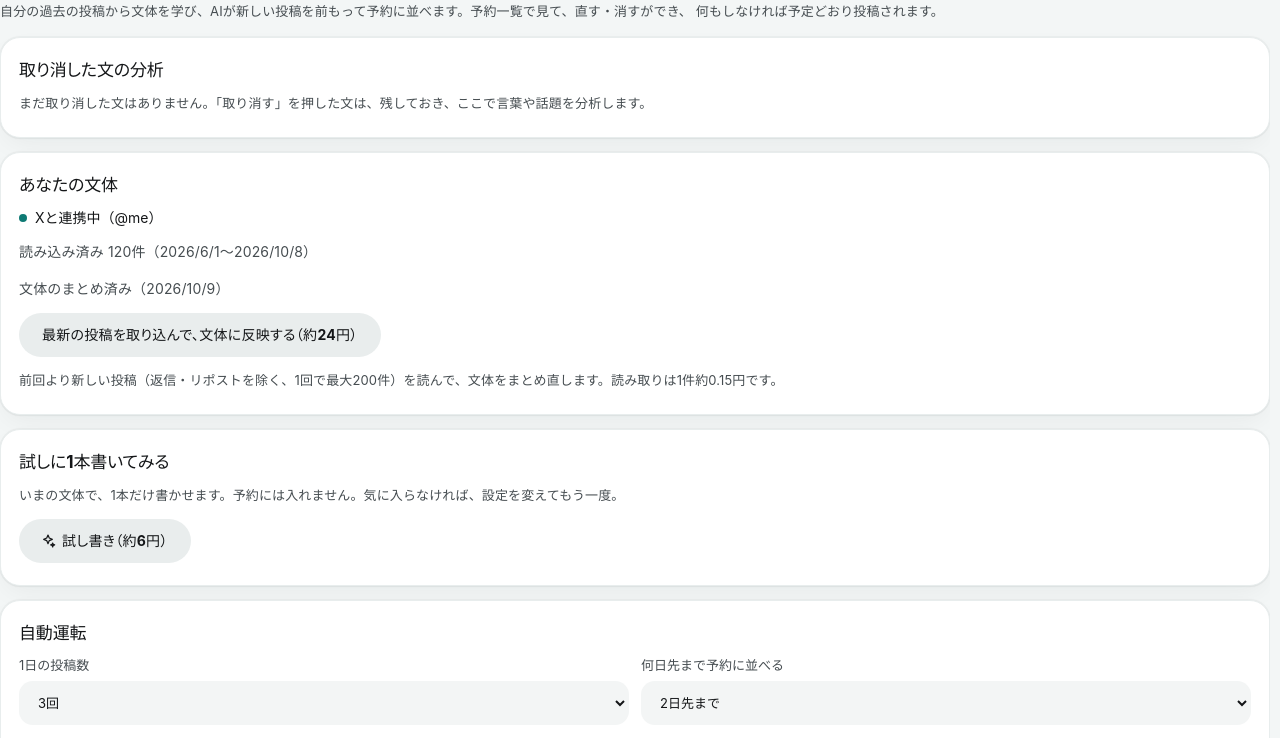
XAutopilotPanel: 文体 › 文体があれば、「最新の投稿を取り込んで、文体に反映する」の1つのボタン（費用つき）で、取り込みからまとめ直しまで続けて行う
Step 1. Click the button "最新の投稿を取り込んで、文体に反映する（約24円）" → [200, 335], box [19,313,381,357]
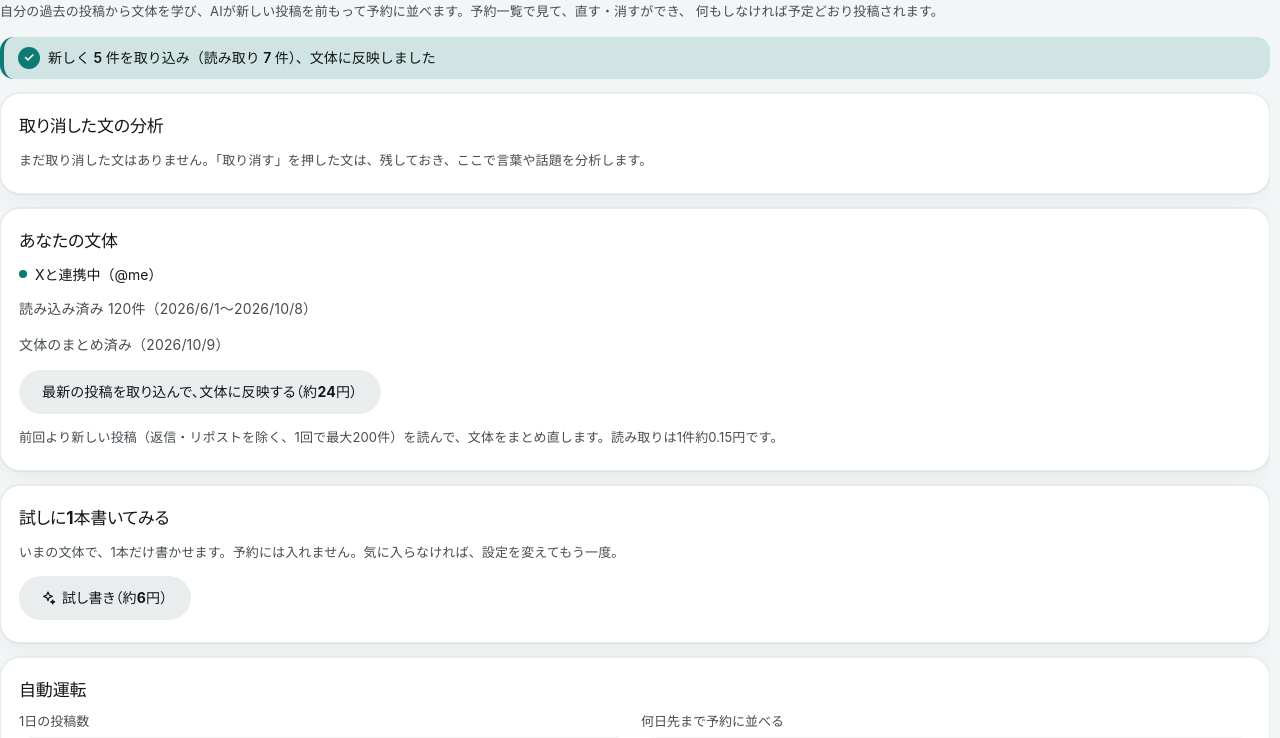
Now the text "新しく 5 件を取り込み（読み取り 7 件）、文体に反映しました" is shown, box [0,37,1270,79]
